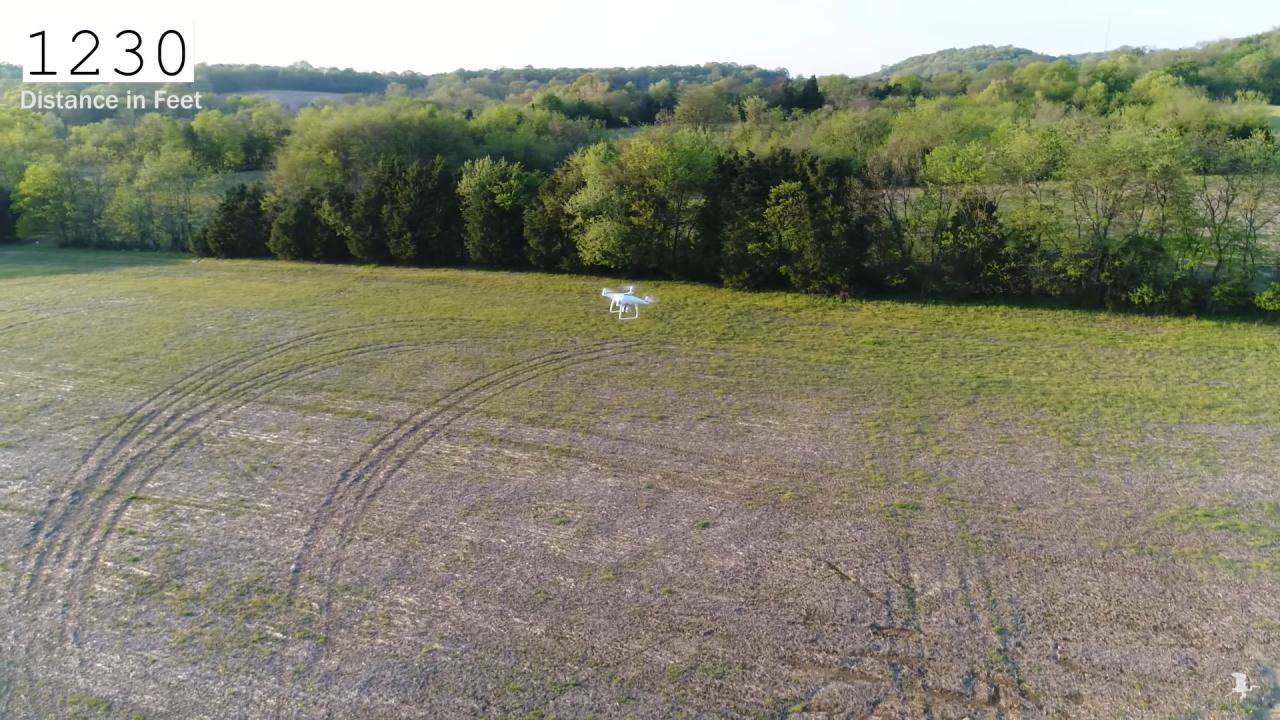Drone: (592, 279, 665, 328)
